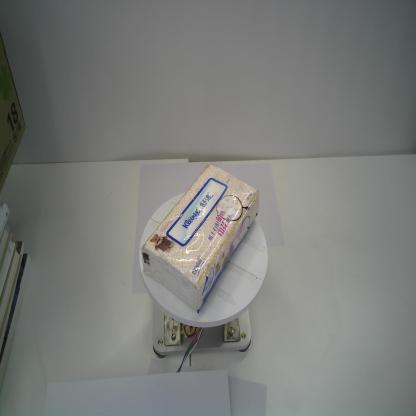Tissue: (139, 161, 259, 314)
